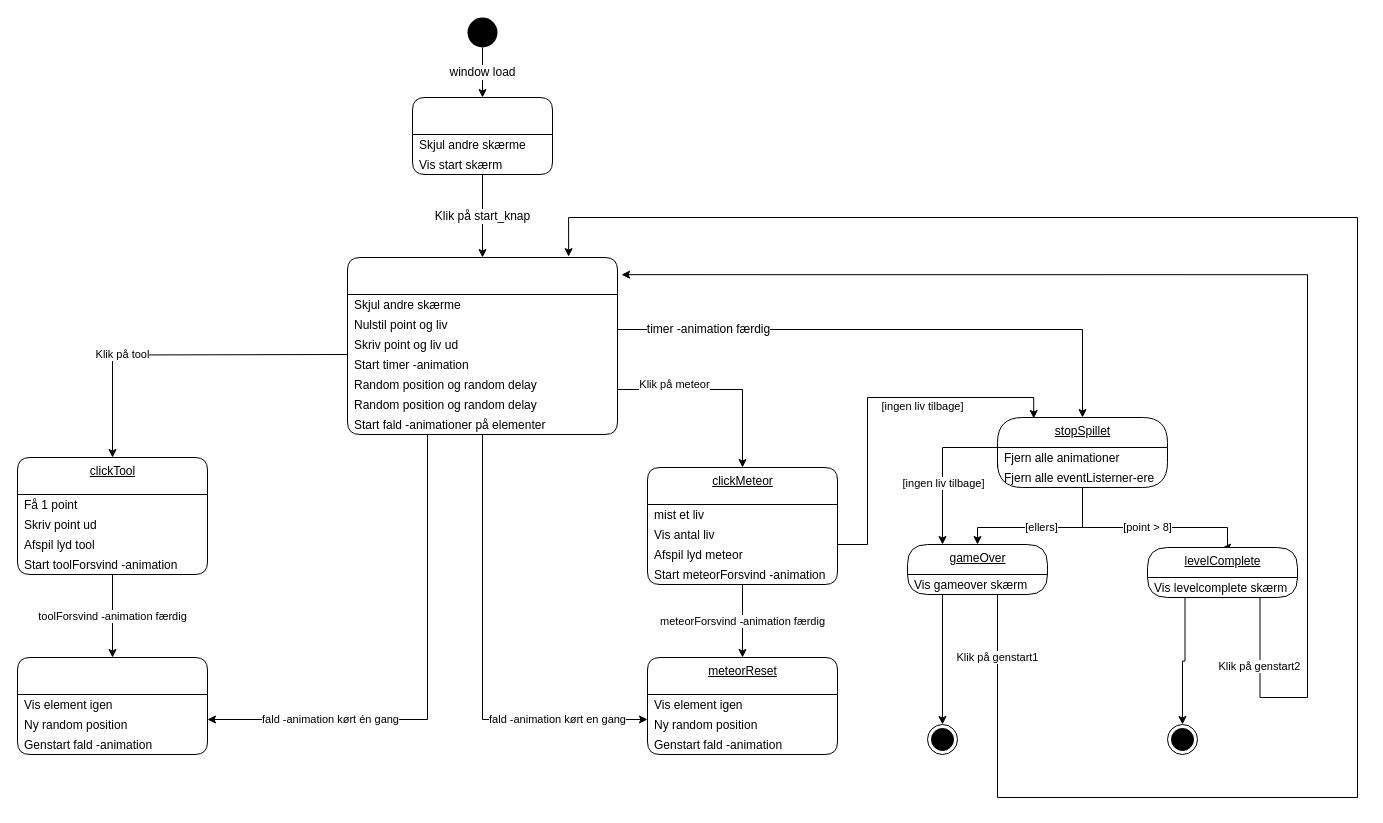
The diagram is 1383 pixels wide and 823 high, and some of its shapes have lost their labels. Each missing label, with the box of its shape:
sidenVises: (412, 96, 552, 174)
startSpil: (346, 256, 618, 434)
toolReset: (16, 656, 208, 754)
